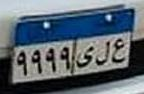9: (15, 49, 29, 79), (44, 47, 57, 76), (58, 45, 71, 73), (30, 48, 43, 76)
ain: (112, 38, 127, 65)
laam: (95, 39, 111, 69)
yaa: (76, 45, 94, 71)
